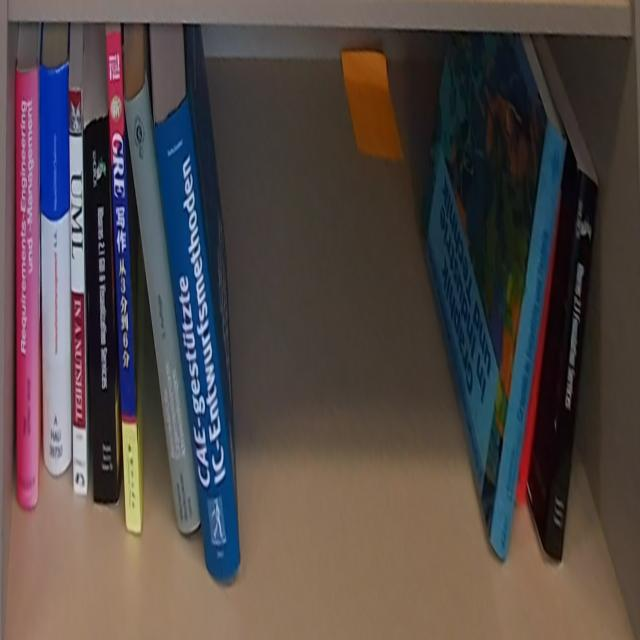Book Spine: (153, 93, 242, 587), (124, 79, 203, 539), (490, 123, 567, 564), (547, 172, 600, 565), (107, 27, 141, 535), (83, 111, 121, 506), (40, 59, 71, 473), (15, 60, 39, 510), (70, 88, 88, 500)
